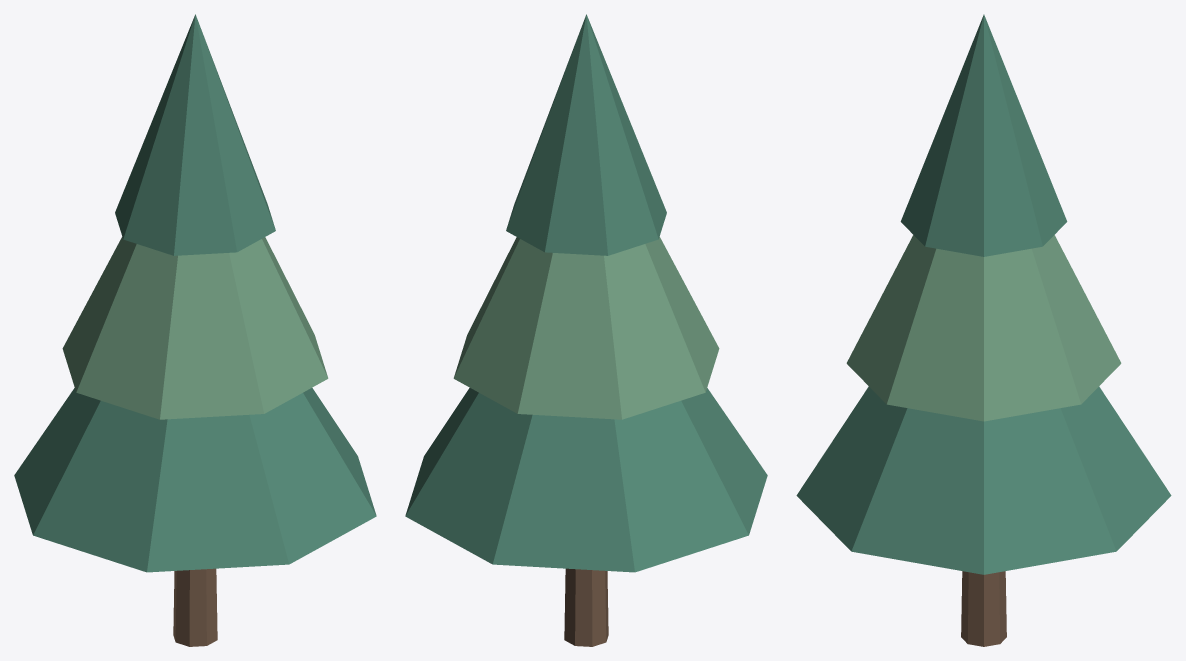
Rendered from SM_Pine.fbx.
The picture shows the model from 3 angles, left to right: view 1: azimuth 30°, elevation 25°; view 2: azimuth 150°, elevation 25°; view 3: azimuth 270°, elevation 25°; orthographic projection.
Visible parts, largest first — view 1: SM_Pine; view 2: SM_Pine; view 3: SM_Pine.
Part boxes in pixels (box(x1,y1,x2,y2)): SM_Pine: box(14, 14, 376, 646); SM_Pine: box(405, 14, 767, 646); SM_Pine: box(796, 14, 1171, 646).
Size of the model in its own units: 1.8 by 1.8 by 3.3.
